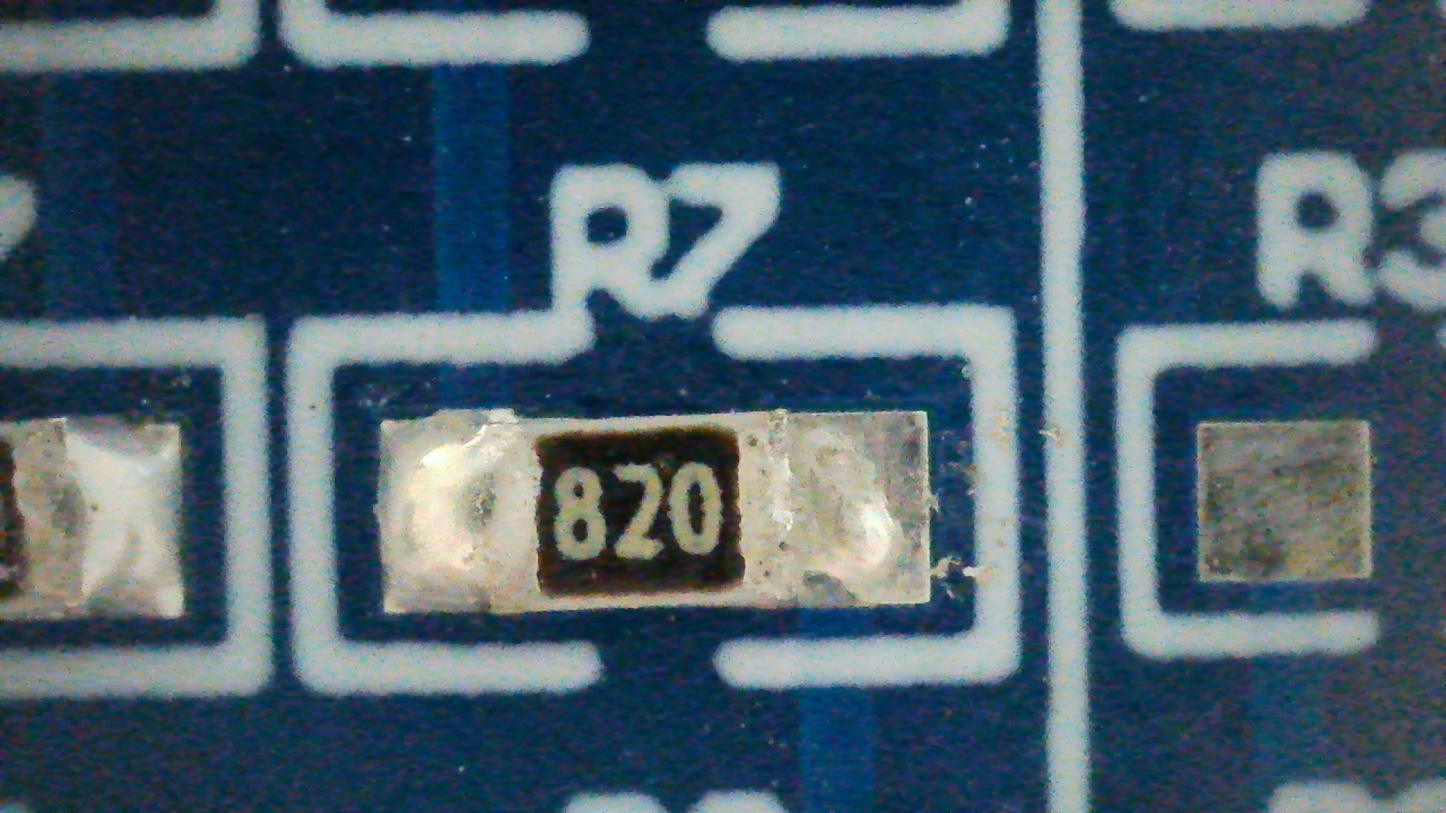OK: (382, 408, 929, 613)
